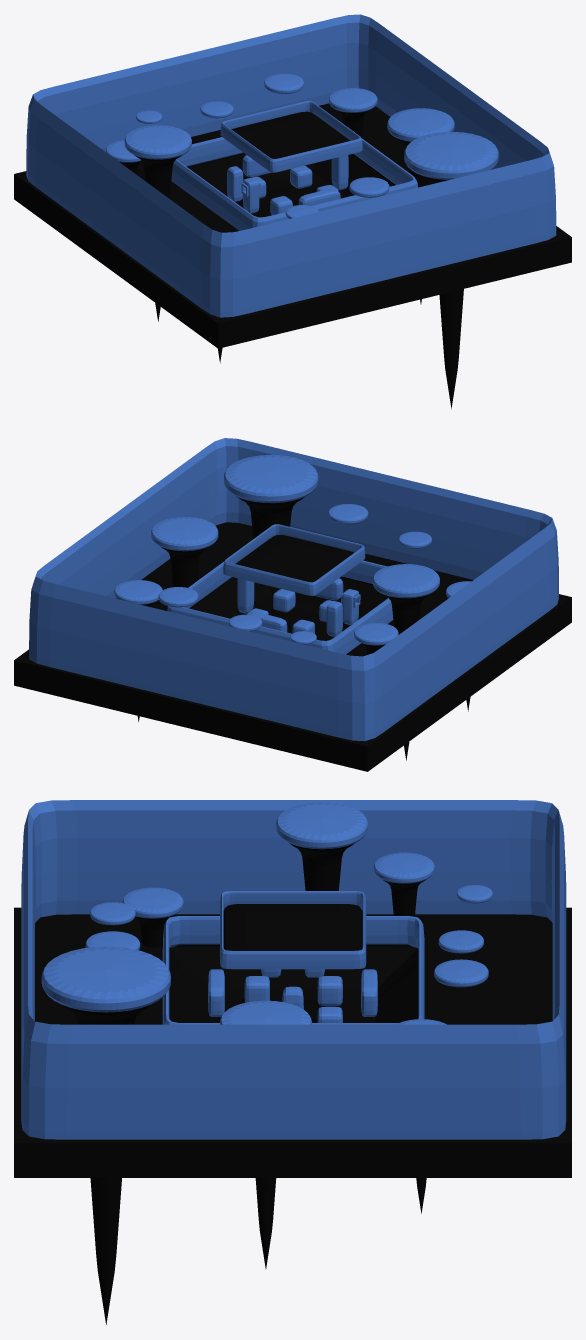
Rendered from iansmap.obj.
3 renders of one model, top to bottom at view 1: azimuth 30°, elevation 25°; view 2: azimuth 150°, elevation 25°; view 3: azimuth 270°, elevation 25°, orthographic. The views are drawn at different scales.
Visible parts, largest first — view 1: Cube.013_Cube.017, Cube.012_Cube.016, Cube.001_Cube.002, Cylinder.011, Cube.011_Cube.015, Cube_Cube.001, Cube.010_Cube.014, Cylinder.005, Cylinder.010, Cylinder.007, Cube.008_Cube.013, Cylinder.009 (+4 smaller); view 2: Cube.013_Cube.017, Cube.012_Cube.016, Cylinder.011, Cube_Cube.001, Cube.011_Cube.015, Cube.001_Cube.002, Cube.010_Cube.014, Cylinder.005, Cylinder.007, Cylinder.010, Cube.008_Cube.013, Cylinder.006 (+9 smaller); view 3: Cube.013_Cube.017, Cube.012_Cube.016, Cube_Cube.001, Cylinder.011, Cube.010_Cube.014, Cube.011_Cube.015, Cube.001_Cube.002, Cylinder.010, Cylinder.005, Cylinder.007, Cylinder.004, Cylinder.019 (+11 smaller).
Boxes of the visible parts, <box> form: Cube.013_Cube.017: <box>26,14,556,317</box>; Cube.012_Cube.016: <box>14,103,571,348</box>; Cube.001_Cube.002: <box>171,137,417,230</box>; Cylinder.011: <box>404,132,498,179</box>; Cube.011_Cube.015: <box>220,101,362,172</box>; Cube_Cube.001: <box>187,153,395,217</box>; Cube.010_Cube.014: <box>231,111,350,158</box>; Cylinder.005: <box>124,125,191,159</box>; Cylinder.010: <box>418,174,463,409</box>; Cylinder.007: <box>387,108,454,141</box>; Cube.008_Cube.013: <box>227,166,259,213</box>; Cylinder.009: <box>329,88,377,112</box>; Cube.013_Cube.017: <box>29,438,558,741</box>; Cube.012_Cube.016: <box>14,522,571,771</box>; Cylinder.011: <box>224,455,318,503</box>; Cube_Cube.001: <box>189,576,387,640</box>; Cube.011_Cube.015: <box>223,524,365,595</box>; Cube.001_Cube.002: <box>167,560,393,654</box>; Cube.010_Cube.014: <box>235,534,354,582</box>; Cylinder.005: <box>372,564,439,598</box>; Cylinder.007: <box>151,517,218,551</box>; Cylinder.010: <box>236,496,304,538</box>; Cube.008_Cube.013: <box>326,589,358,636</box>; Cylinder.006: <box>160,546,208,587</box>; Cube.013_Cube.017: <box>21,800,566,1139</box>; Cube.012_Cube.016: <box>14,907,571,1177</box>; Cube_Cube.001: <box>169,944,418,1022</box>; Cylinder.011: <box>41,946,170,1012</box>; Cube.010_Cube.014: <box>223,904,362,950</box>; Cube.011_Cube.015: <box>220,891,366,969</box>; Cube.001_Cube.002: <box>162,916,424,1024</box>; Cylinder.010: <box>59,1003,153,1324</box>; Cylinder.005: <box>276,802,367,849</box>; Cylinder.007: <box>220,1000,311,1024</box>; Cylinder.004: <box>289,843,354,890</box>; Cylinder.019: <box>374,852,434,883</box>.
Size of the model in its own units: 76.64 by 55.22 by 76.64.
